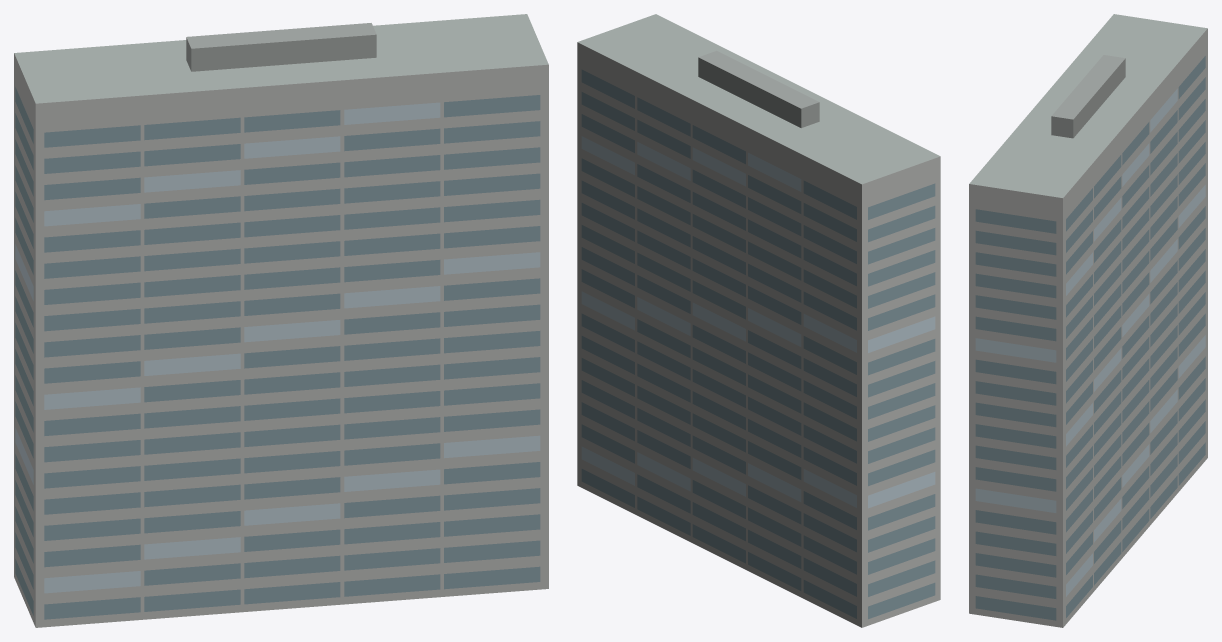
The model's file is fallback-jamsil-els-150.glb.
3 renders of one model, left to right at view 1: azimuth 30°, elevation 25°; view 2: azimuth 150°, elevation 25°; view 3: azimuth 270°, elevation 25°, orthographic. The views are drawn at different scales.
Visible parts, largest first — view 1: fallback-jamsil-els-150; view 2: fallback-jamsil-els-150; view 3: fallback-jamsil-els-150.
Boxes of the visible parts, left/top/right/bottom form: fallback-jamsil-els-150: left=14, top=14, right=548, bottom=627; fallback-jamsil-els-150: left=577, top=14, right=940, bottom=627; fallback-jamsil-els-150: left=969, top=14, right=1207, bottom=627.
Size of the model in its own units: 50.2 by 57 by 27.49.
